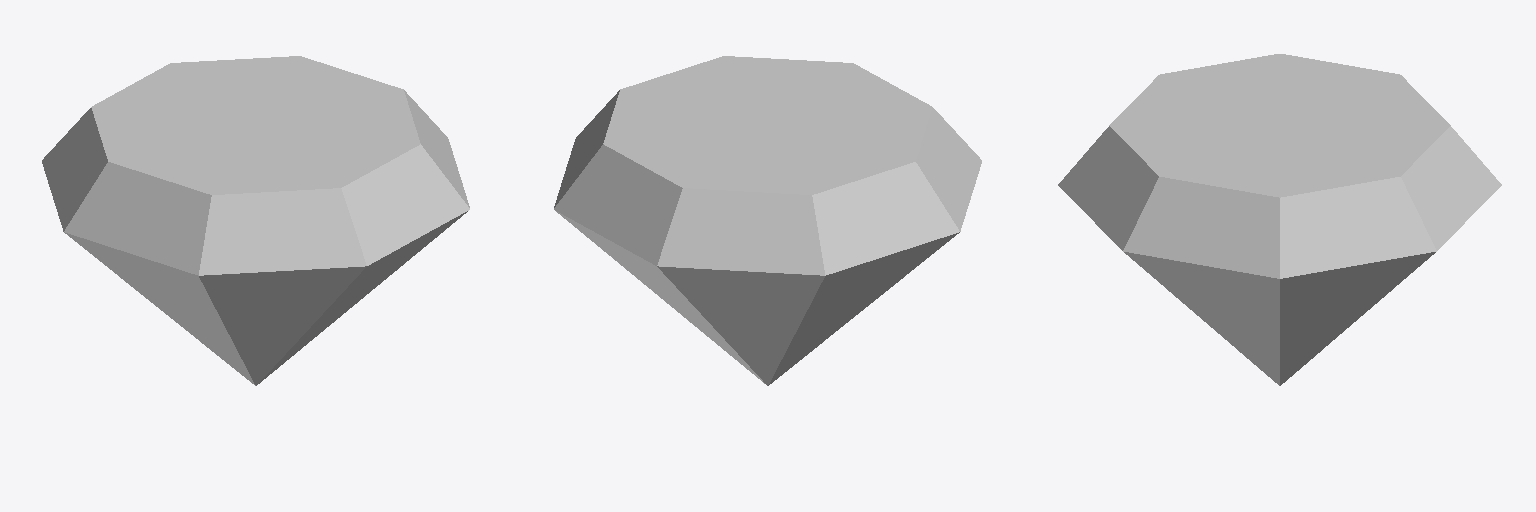
File: gem.obj
3 renders of one model, left to right at view 1: azimuth 30°, elevation 25°; view 2: azimuth 150°, elevation 25°; view 3: azimuth 270°, elevation 25°, orthographic.
Parts seen in each view (by area): view 1: Cylinder; view 2: Cylinder; view 3: Cylinder.
Part boxes in pixels (x1,y1,x2,y2): Cylinder: (42,56,469,385); Cylinder: (554,56,981,385); Cylinder: (1058,54,1501,385).
Size of the model in its own units: 0.9744 by 0.6313 by 0.9744.